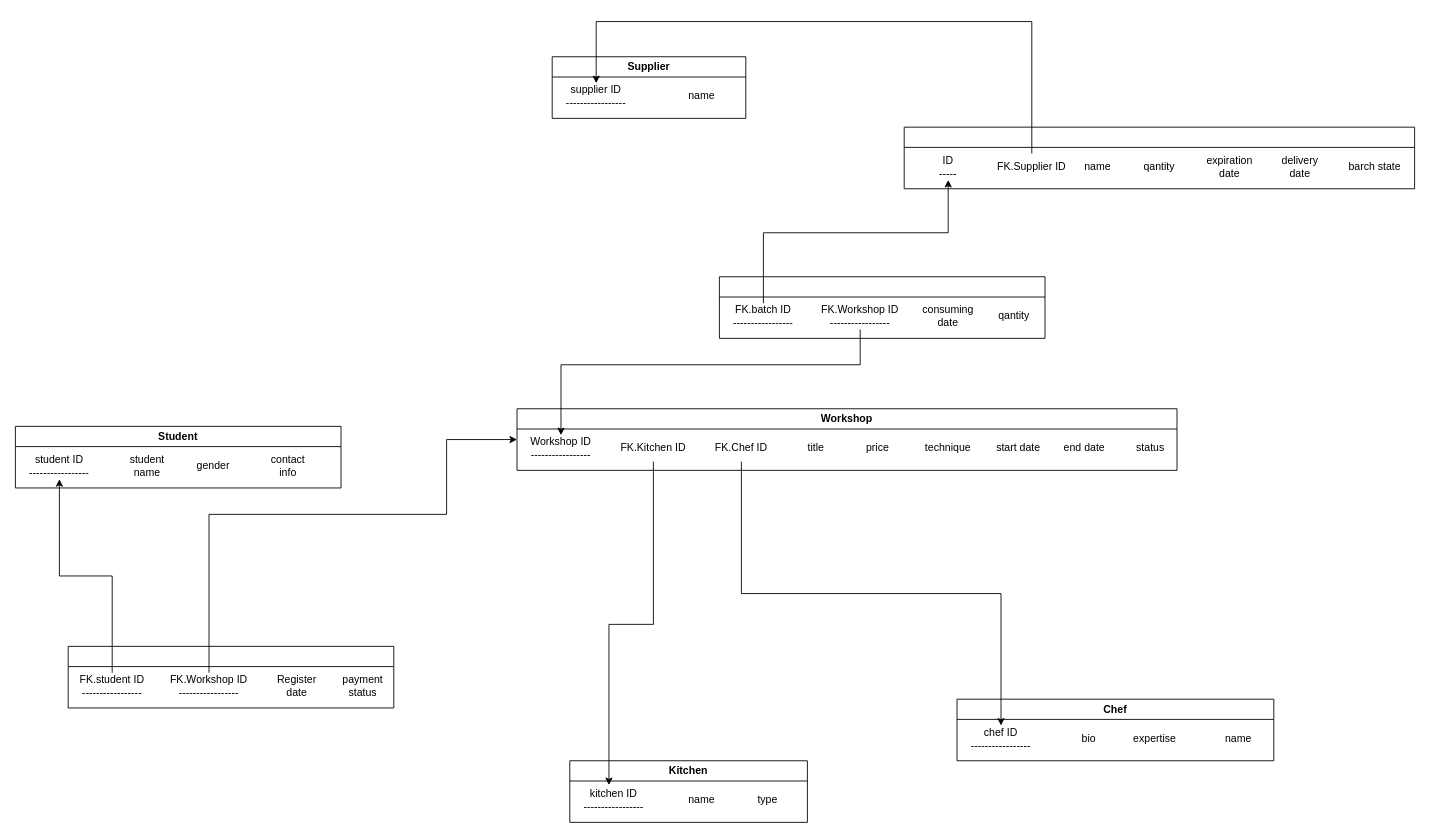
Some shapes in this 1430 by 838 pixel diagram are drawn without their labels. Here are the shapes that lost their labels. From the top down, the box of each, then its label:
(903, 126, 1415, 189): Ingredient batch
(719, 276, 1045, 338): Consume(Batch - Workshop)
(67, 645, 394, 708): Register in(Student - Workshop)
